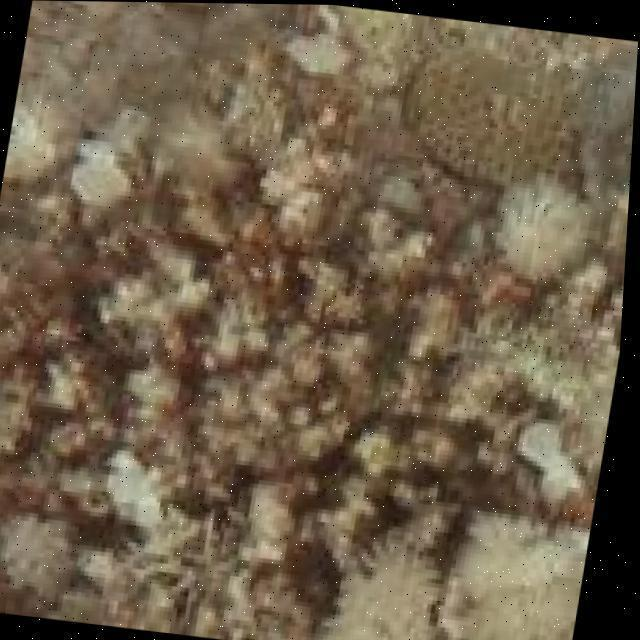Healthy Coral: (382, 0, 640, 215)
